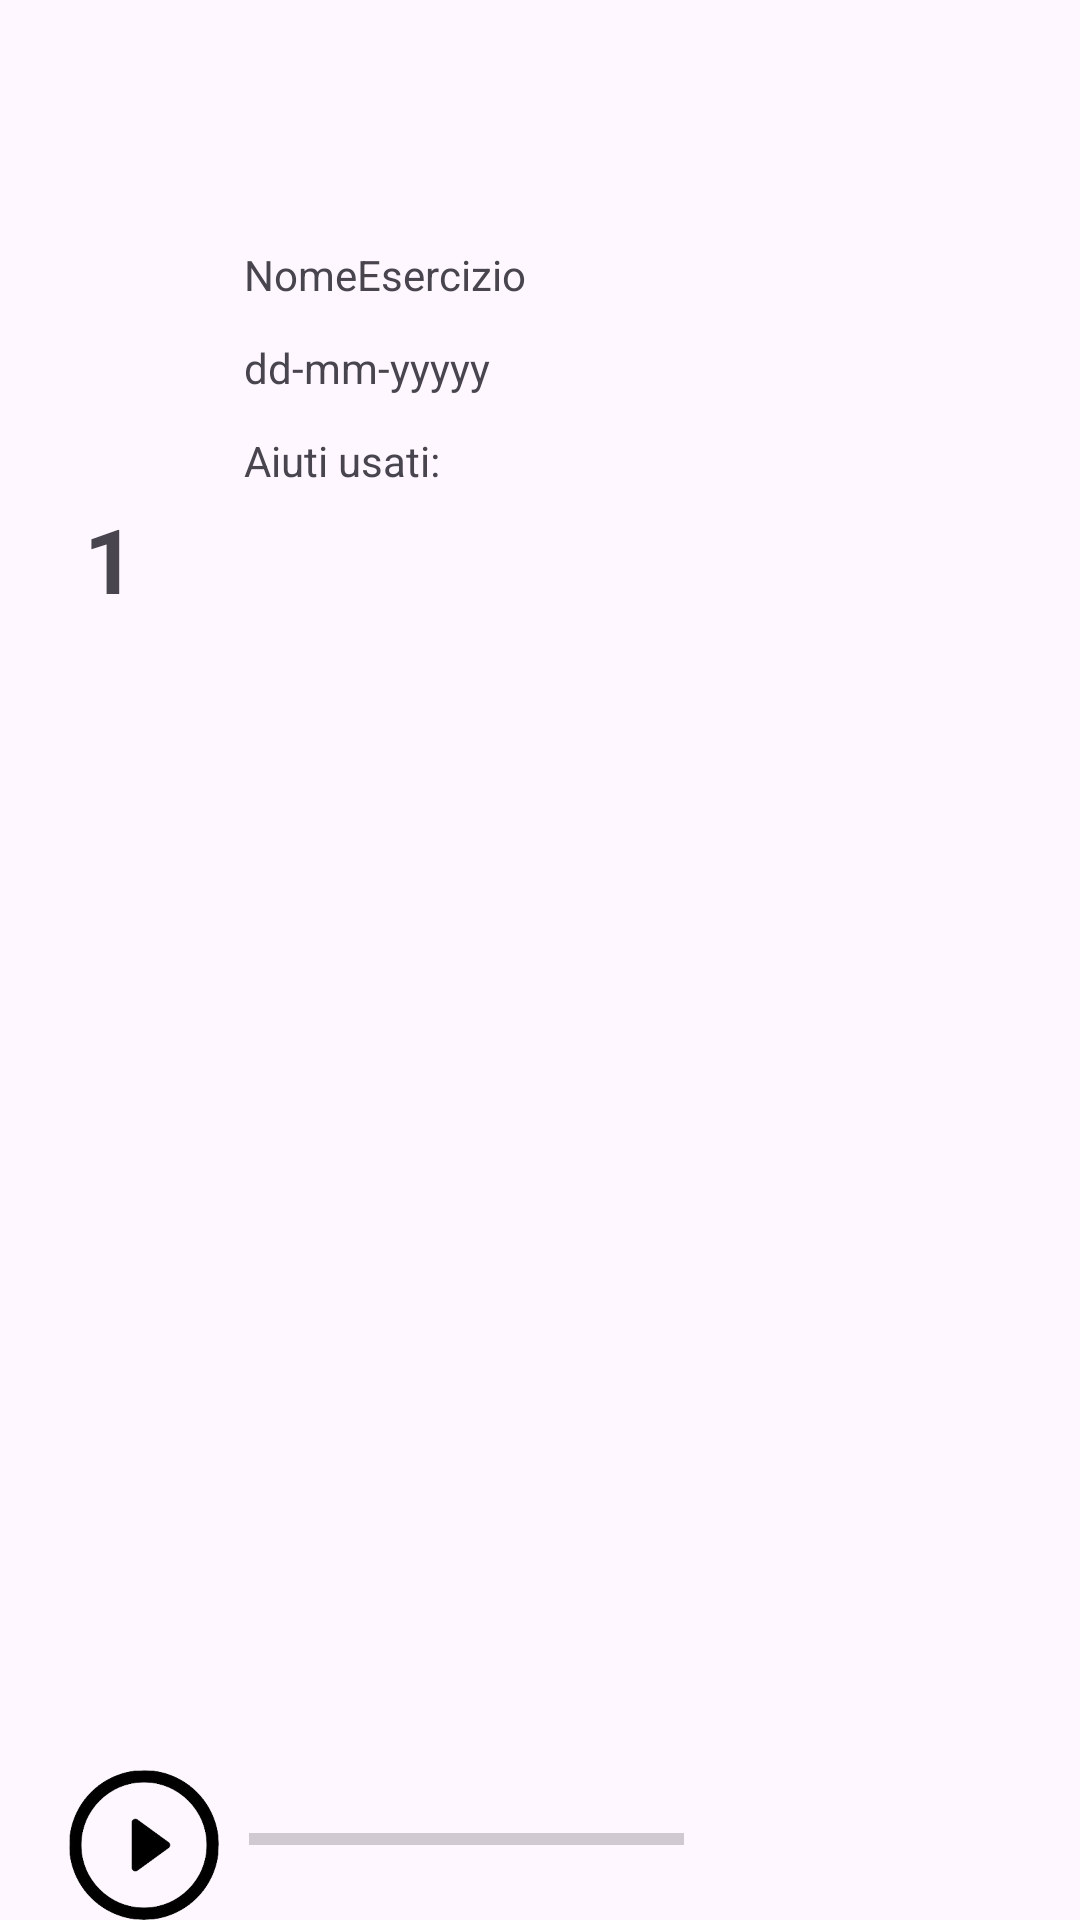

Named icons in this screenshot (1080×1920) and their bounding boxes, (x1, y1, x2, y2):
play: (69, 1770, 219, 1920)
